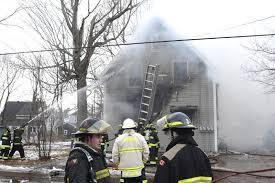smoke: (106, 1, 275, 151)
